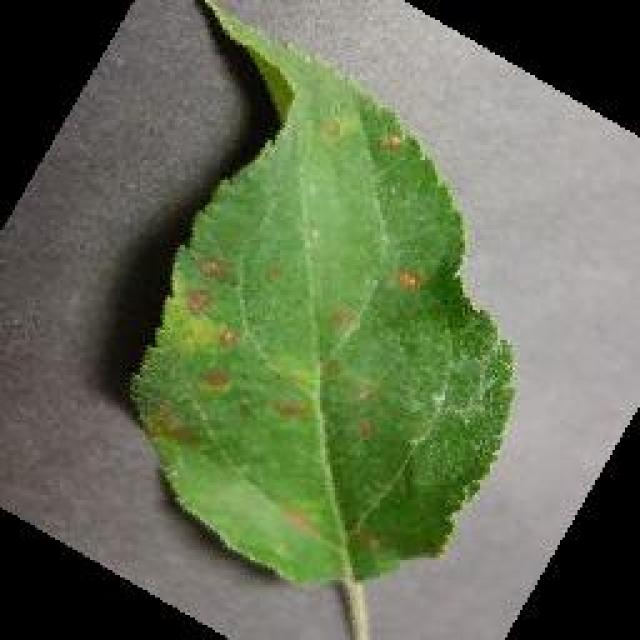apple rust disease: (125, 0, 520, 590)
